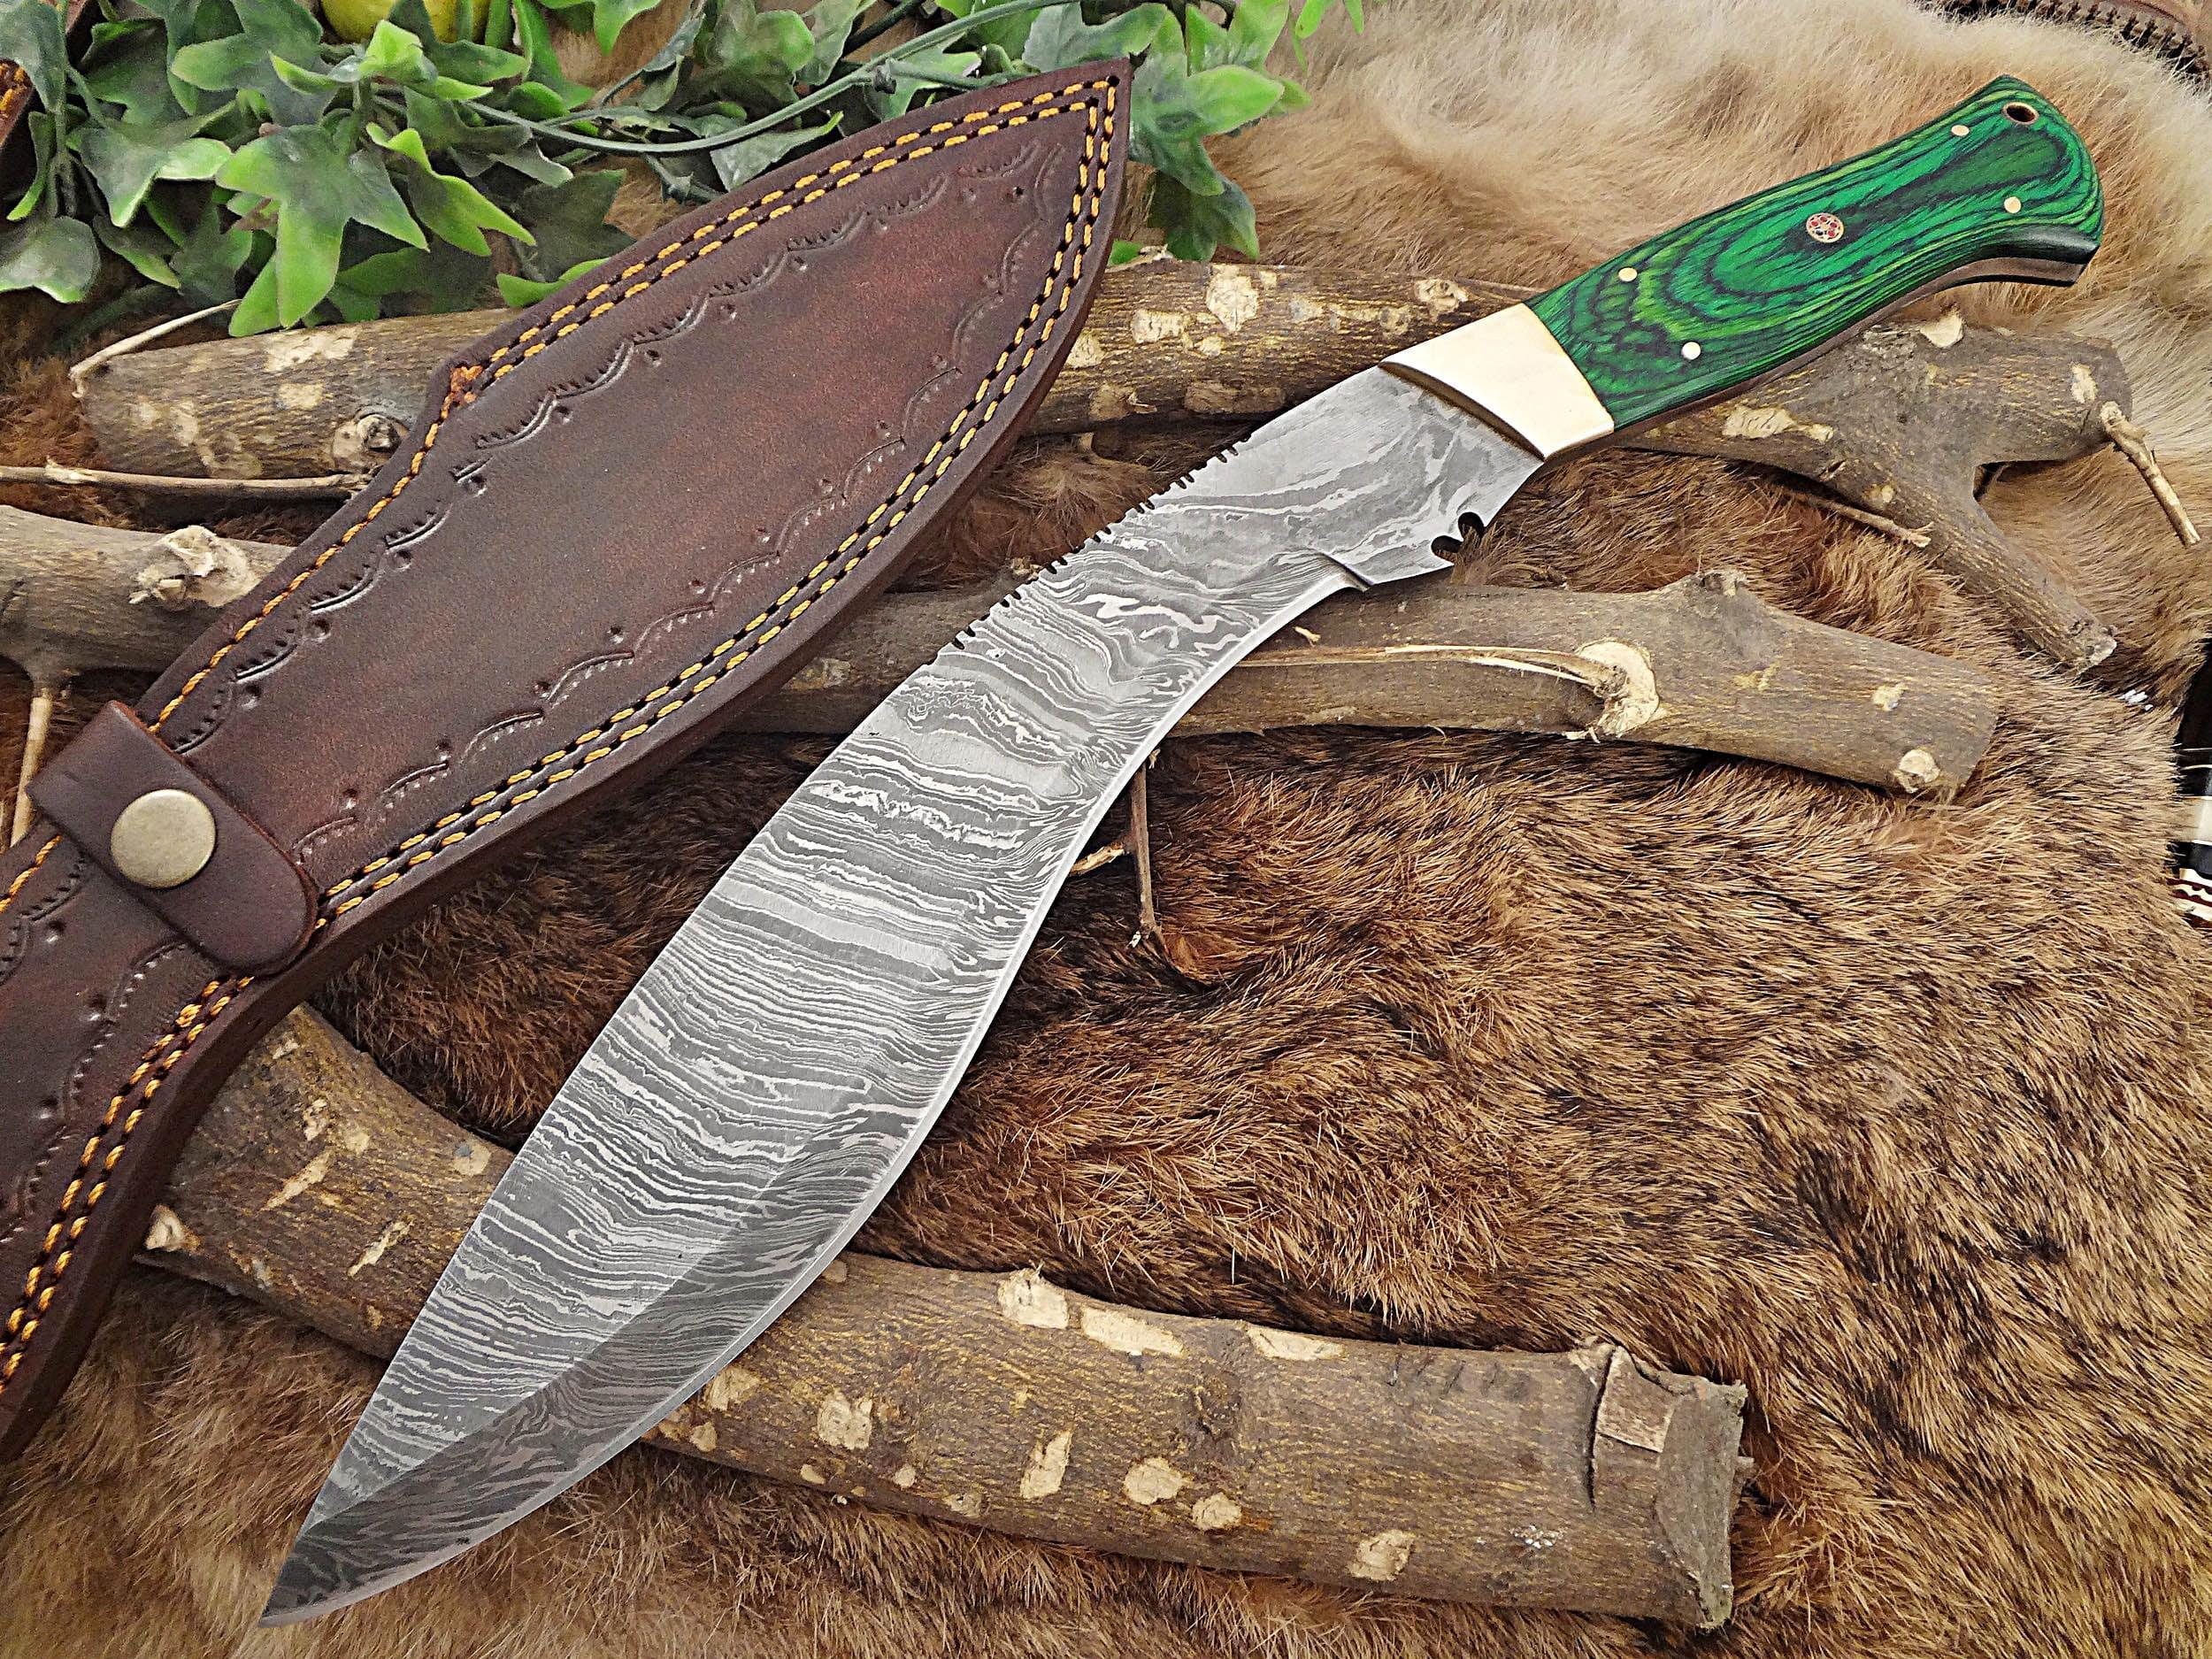facao: (263, 77, 2101, 1624)
